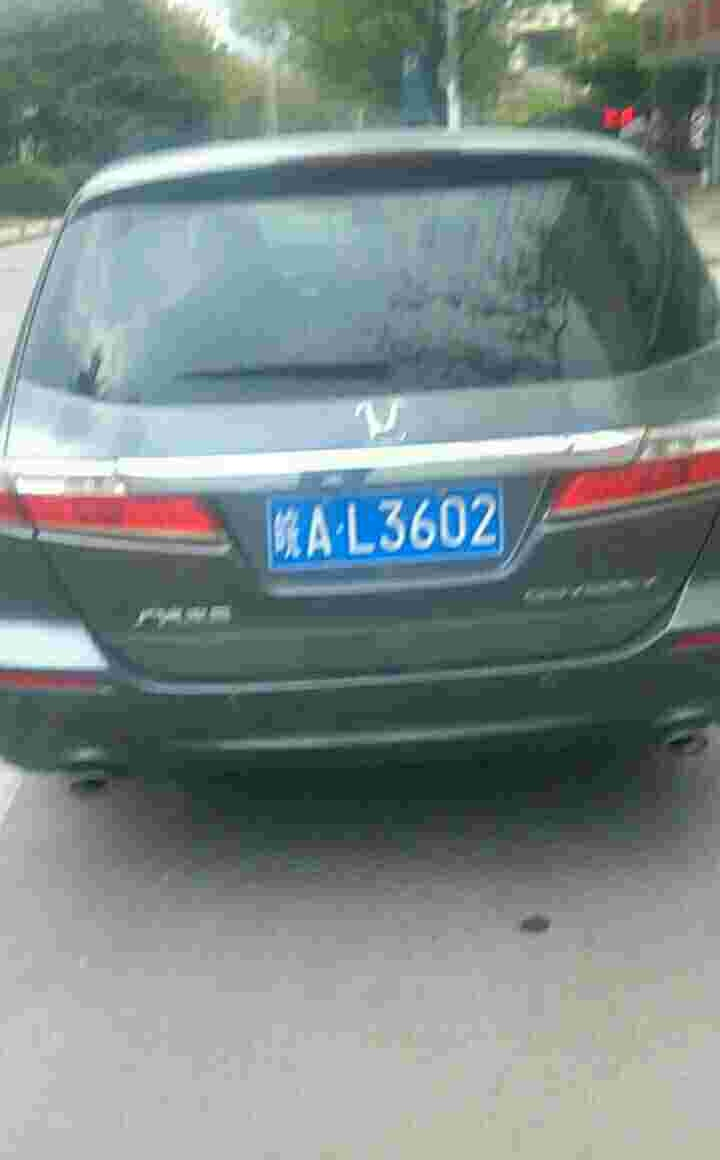license_plate: (273, 482, 507, 568)
